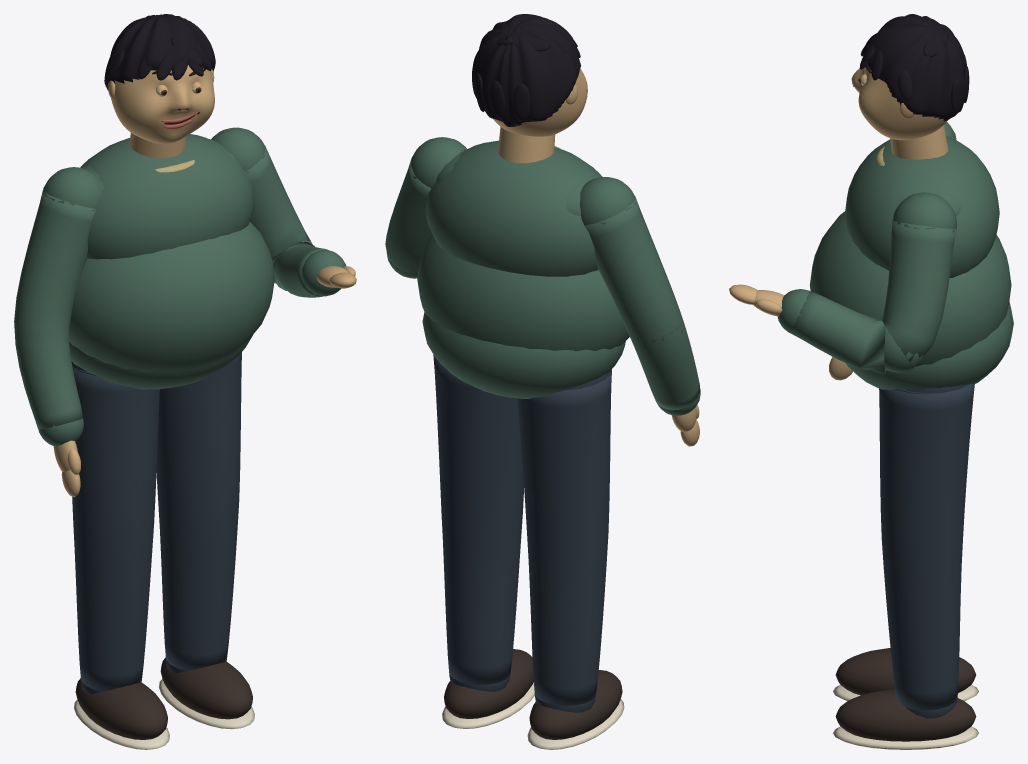
Rendered from q_unrigged_source.glb.
3 renders of one model, left to right at view 1: azimuth 30°, elevation 25°; view 2: azimuth 150°, elevation 25°; view 3: azimuth 270°, elevation 25°, orthographic.
Parts seen in each view (by area): view 1: Q_Top, Q_Pants, Q_Shoes, Q_Head, Q_Hair, Q_Neck_Hands; view 2: Q_Top, Q_Pants, Q_Hair, Q_Shoes, Q_Neck_Hands, Q_Head; view 3: Q_Top, Q_Pants, Q_Shoes, Q_Hair, Q_Head, Q_Neck_Hands.
Part boxes in pixels (left/top/right/bottom): Q_Top: left=14, top=127, right=346, bottom=446; Q_Pants: left=71, top=352, right=241, bottom=693; Q_Shoes: left=74, top=657, right=254, bottom=749; Q_Head: left=108, top=65, right=214, bottom=144; Q_Hair: left=104, top=14, right=215, bottom=90; Q_Neck_Hands: left=53, top=133, right=356, bottom=497; Q_Top: left=385, top=137, right=700, bottom=415; Q_Pants: left=433, top=355, right=611, bottom=712; Q_Hair: left=472, top=14, right=580, bottom=126; Q_Shoes: left=442, top=649, right=624, bottom=749; Q_Neck_Hands: left=498, top=126, right=699, bottom=446; Q_Head: left=493, top=68, right=587, bottom=136; Q_Top: left=777, top=122, right=1013, bottom=389; Q_Pants: left=879, top=384, right=974, bottom=718; Q_Shoes: left=833, top=648, right=978, bottom=749; Q_Hair: left=859, top=14, right=969, bottom=121; Q_Head: left=851, top=64, right=947, bottom=140; Q_Neck_Hands: left=729, top=125, right=948, bottom=380.
Bounding box in the file's own units: 0.7255 × 1.65 × 0.6069.
